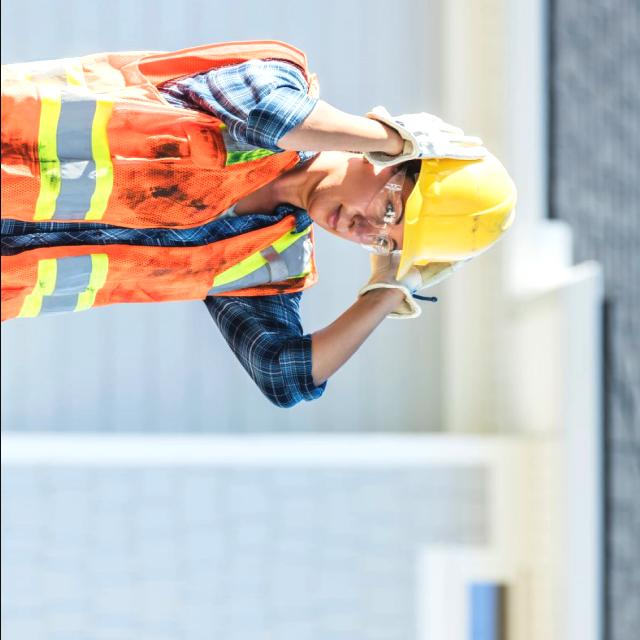Gloves: (363, 102, 491, 175), (358, 248, 486, 316)
Hard Hat: (388, 130, 520, 302)
Reflective Vest: (0, 45, 317, 318)
Safety Glasses: (360, 152, 408, 260)
